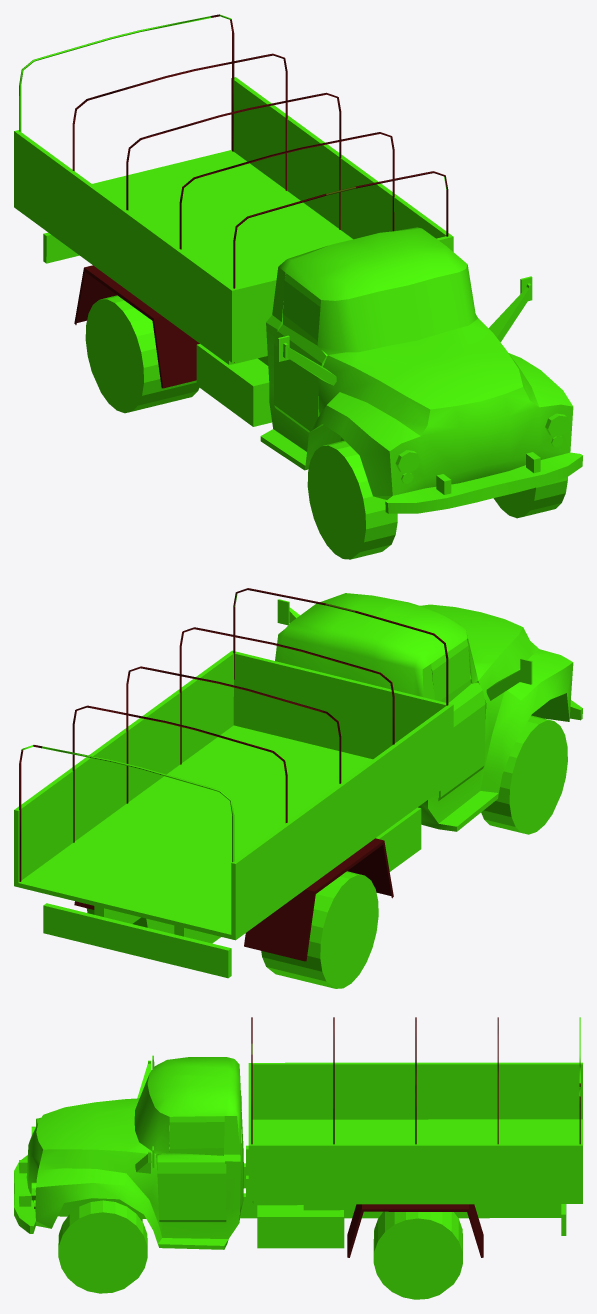
The model's file is ZIL130_col.fbx.
3 renders of one model, top to bottom at view 1: azimuth 30°, elevation 25°; view 2: azimuth 150°, elevation 25°; view 3: azimuth 270°, elevation 25°, orthographic. The views are drawn at different scales.
Parts seen in each view (by area): view 1: Truck_body_col, Truck_Wheel_AR_col, Truck_Wheel_FL_col, Zil_Door_FL_Col, Truck_Wheel_FR_col; view 2: Truck_body_col, Truck_Wheel_AR_col, Truck_Wheel_FL_col, Zil_Door_FL_Col; view 3: Truck_body_col, Truck_Wheel_AR_col, Zil_Door_FR_Col, Truck_Wheel_FR_col.
Boxes of the visible parts, bbox=[...] form: Truck_body_col: bbox=[14, 14, 582, 513]; Truck_Wheel_AR_col: bbox=[85, 295, 199, 413]; Truck_Wheel_FL_col: bbox=[307, 440, 397, 559]; Zil_Door_FL_Col: bbox=[274, 273, 327, 432]; Truck_Wheel_FR_col: bbox=[493, 477, 567, 518]; Truck_body_col: bbox=[14, 588, 582, 978]; Truck_Wheel_AR_col: bbox=[86, 871, 378, 988]; Truck_Wheel_FL_col: bbox=[481, 715, 567, 834]; Zil_Door_FL_Col: bbox=[431, 639, 485, 800]; Truck_body_col: bbox=[14, 1017, 582, 1257]; Truck_Wheel_AR_col: bbox=[373, 1211, 462, 1299]; Zil_Door_FR_Col: bbox=[157, 1116, 226, 1222]; Truck_Wheel_FR_col: bbox=[58, 1200, 147, 1293].
Bounding box in the file's own units: 260 × 264 × 659.
